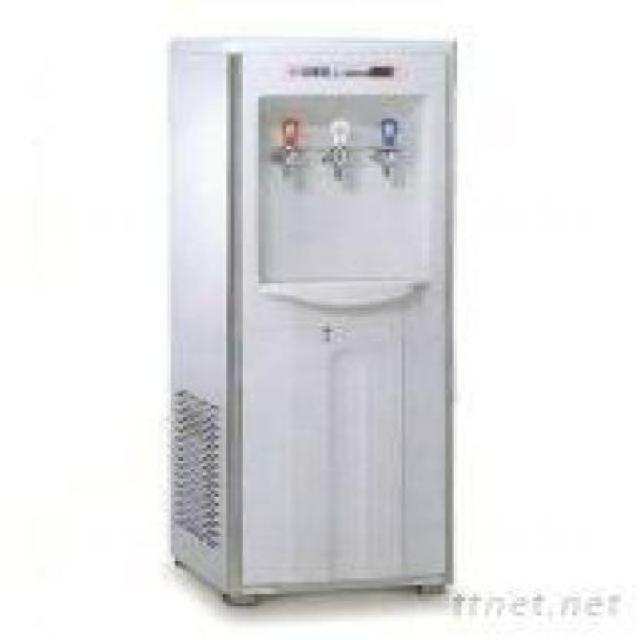cooler: (159, 25, 466, 607)
